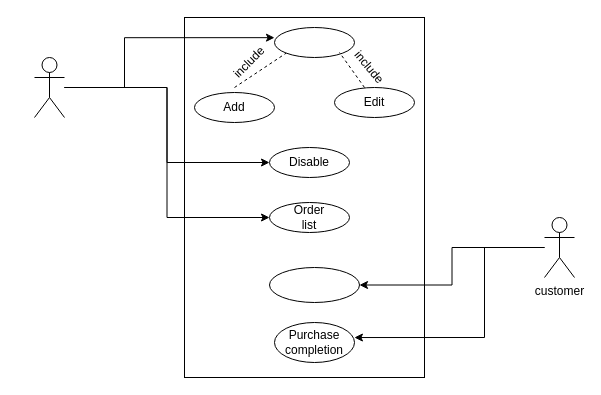
The diagram is 601 pixels wide and 395 high, and some of its shapes have lost their labels. The box of each missing label's shape, as (x1, y1, x2, y2) in pixels:
Maintain: (274, 26, 354, 58)
salesperson: (34, 56, 64, 118)
ُSupermarkets list: (268, 266, 360, 302)
